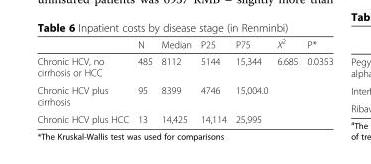table: (36, 36, 332, 124)
table column: (36, 36, 132, 124), (230, 36, 271, 124), (156, 36, 195, 124), (195, 36, 230, 124), (271, 36, 302, 124), (302, 36, 332, 124), (132, 36, 156, 124)
table column header: (36, 36, 332, 52)
table row: (36, 52, 332, 81), (36, 81, 332, 110), (36, 36, 332, 52), (36, 110, 332, 124)
table spanning cell: (271, 52, 302, 124), (302, 52, 332, 124)
